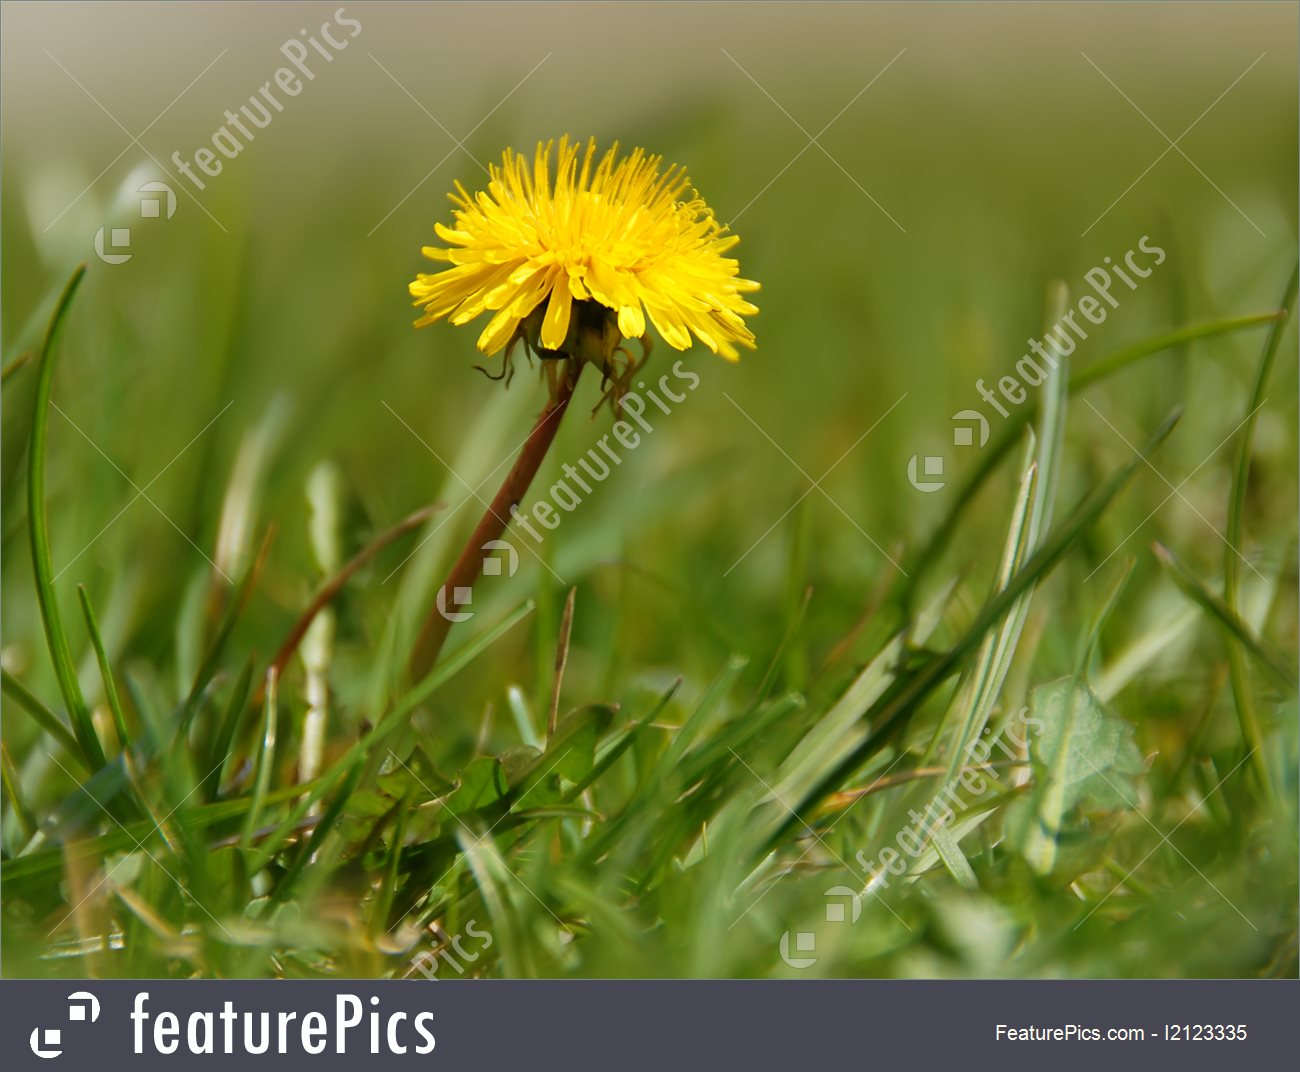dandelion: (459, 152, 734, 336)
